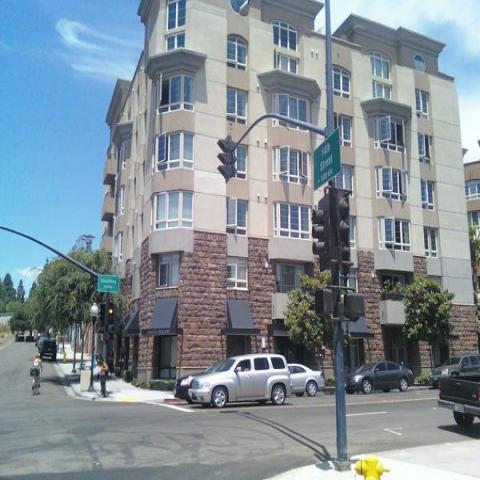car: (192, 351, 293, 410), (343, 360, 415, 395), (427, 351, 479, 390), (287, 363, 326, 398), (38, 340, 58, 362)
truck: (437, 368, 479, 429)
